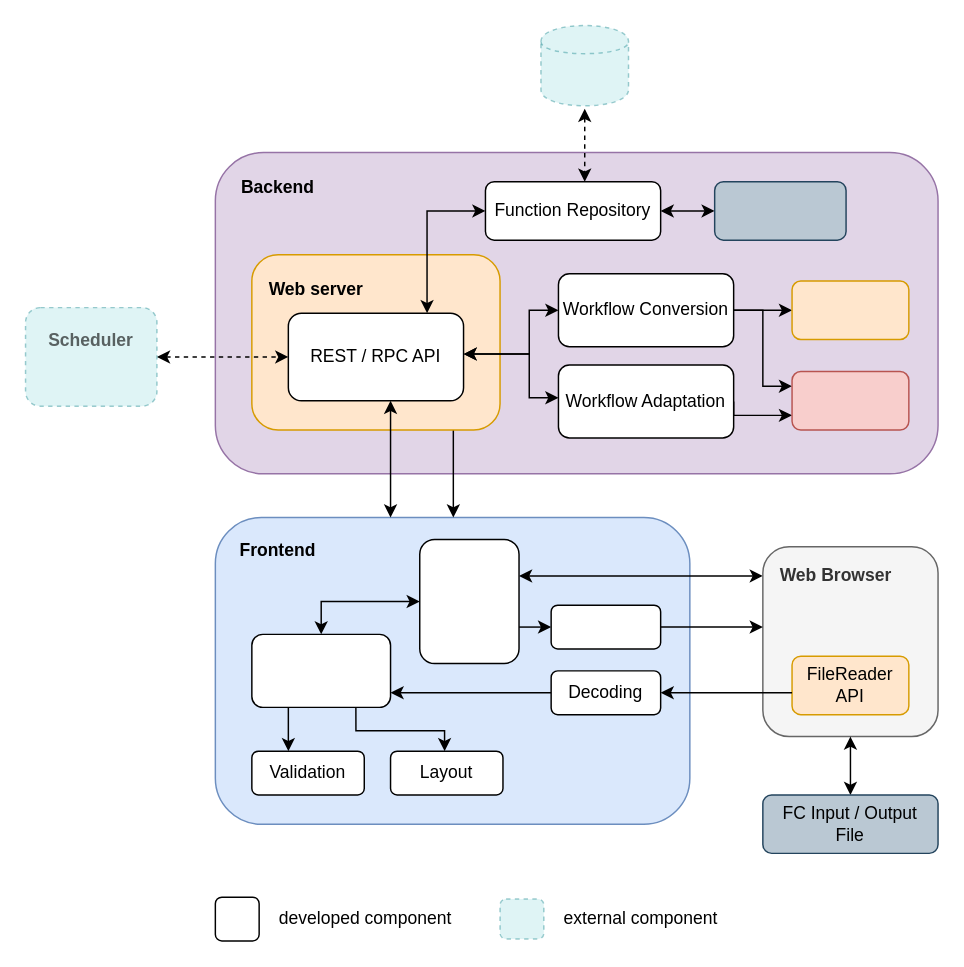
The diagram is 964 pixels wide and 967 high, and some of its shapes have lost their labels. Here are the shapes that lost their labels. From the top down, the centre of each, then its label:
[584,65]: DBMS
[779,210]: Persistence File
[850,309]: XML API
[850,400]: AFCL API
[468,601]: User Interface
[605,626]: Encoding
[320,670]: Editor
